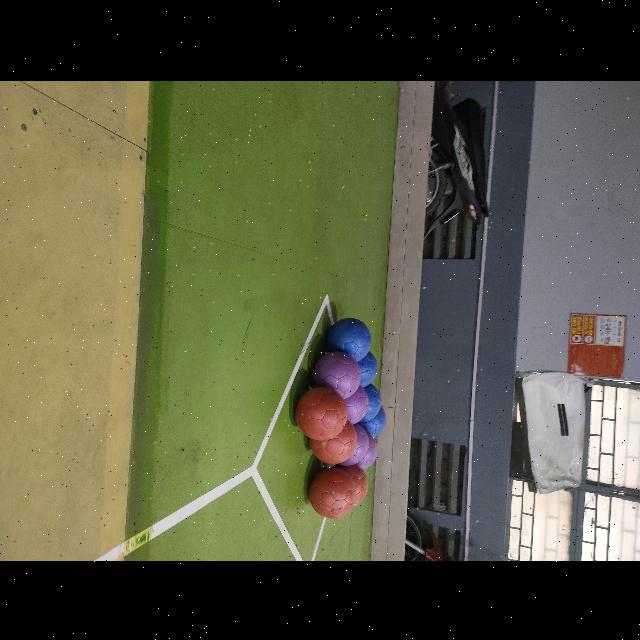B: (327, 317, 371, 359), (360, 406, 386, 436)
P: (313, 350, 362, 398), (340, 423, 370, 465)
R: (296, 386, 348, 439), (304, 417, 360, 465), (310, 467, 356, 517)
